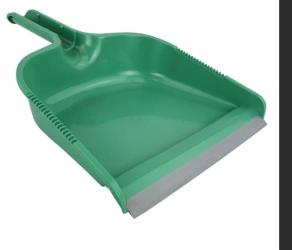PELLE: (0, 2, 267, 228)
